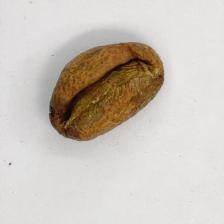NG: (51, 45, 118, 141), (111, 41, 164, 113)
